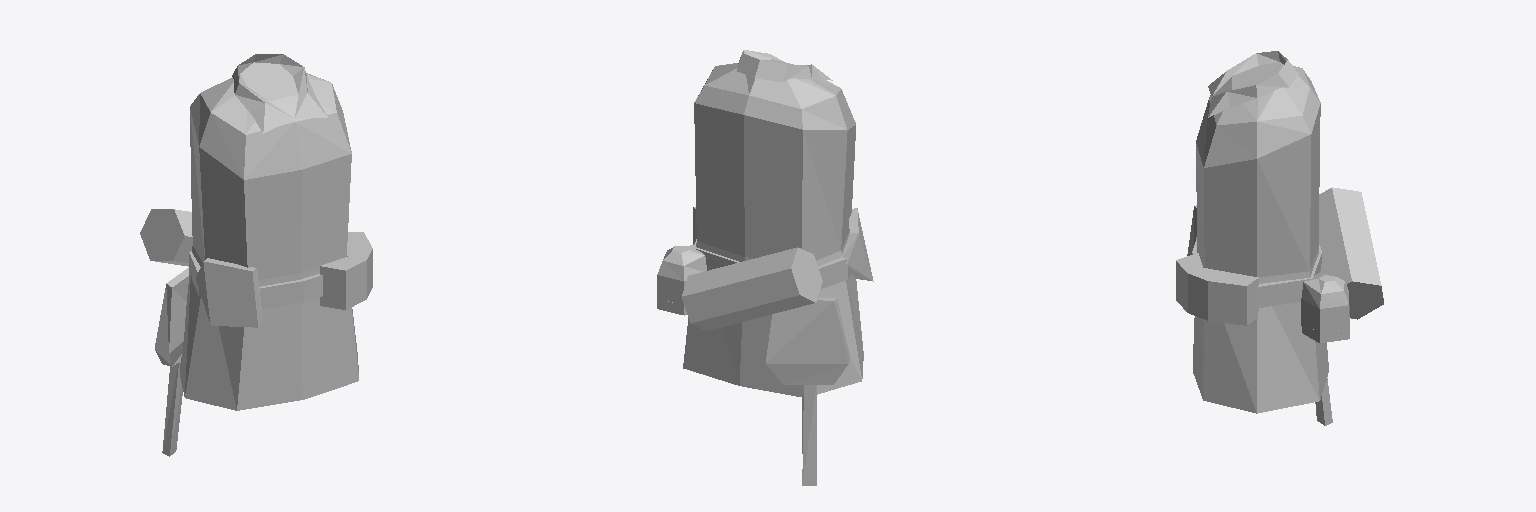
File: gertorso.obj
The picture shows the model from 3 angles: view 1: azimuth 30°, elevation 25°; view 2: azimuth 150°, elevation 25°; view 3: azimuth 270°, elevation 25°; orthographic projection.
Size of the model in its own units: 3.7 by 7.68 by 3.67.